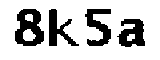5: (83, 4, 116, 50)
8: (12, 6, 45, 48)
a: (118, 14, 150, 51)
k: (46, 2, 82, 52)
